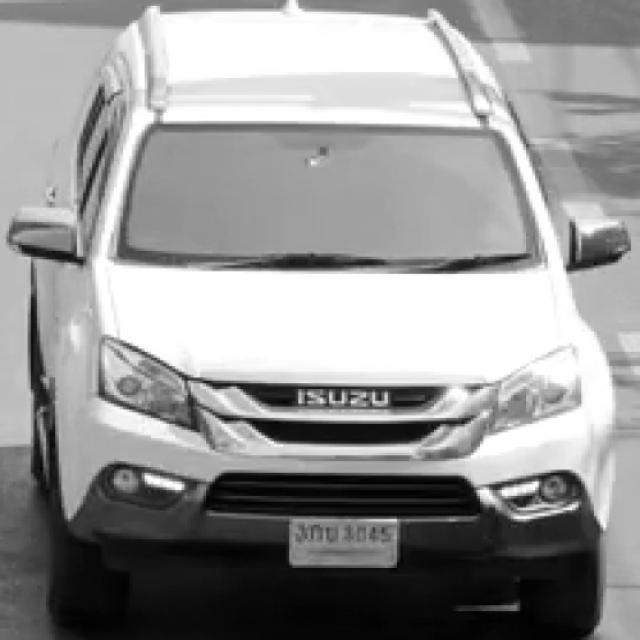plate: (290, 516, 400, 568)
